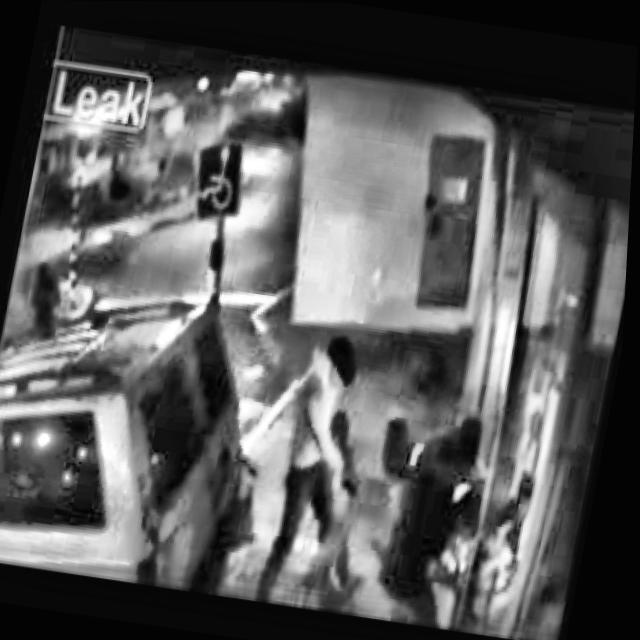burglary: (66, 225, 627, 640)
